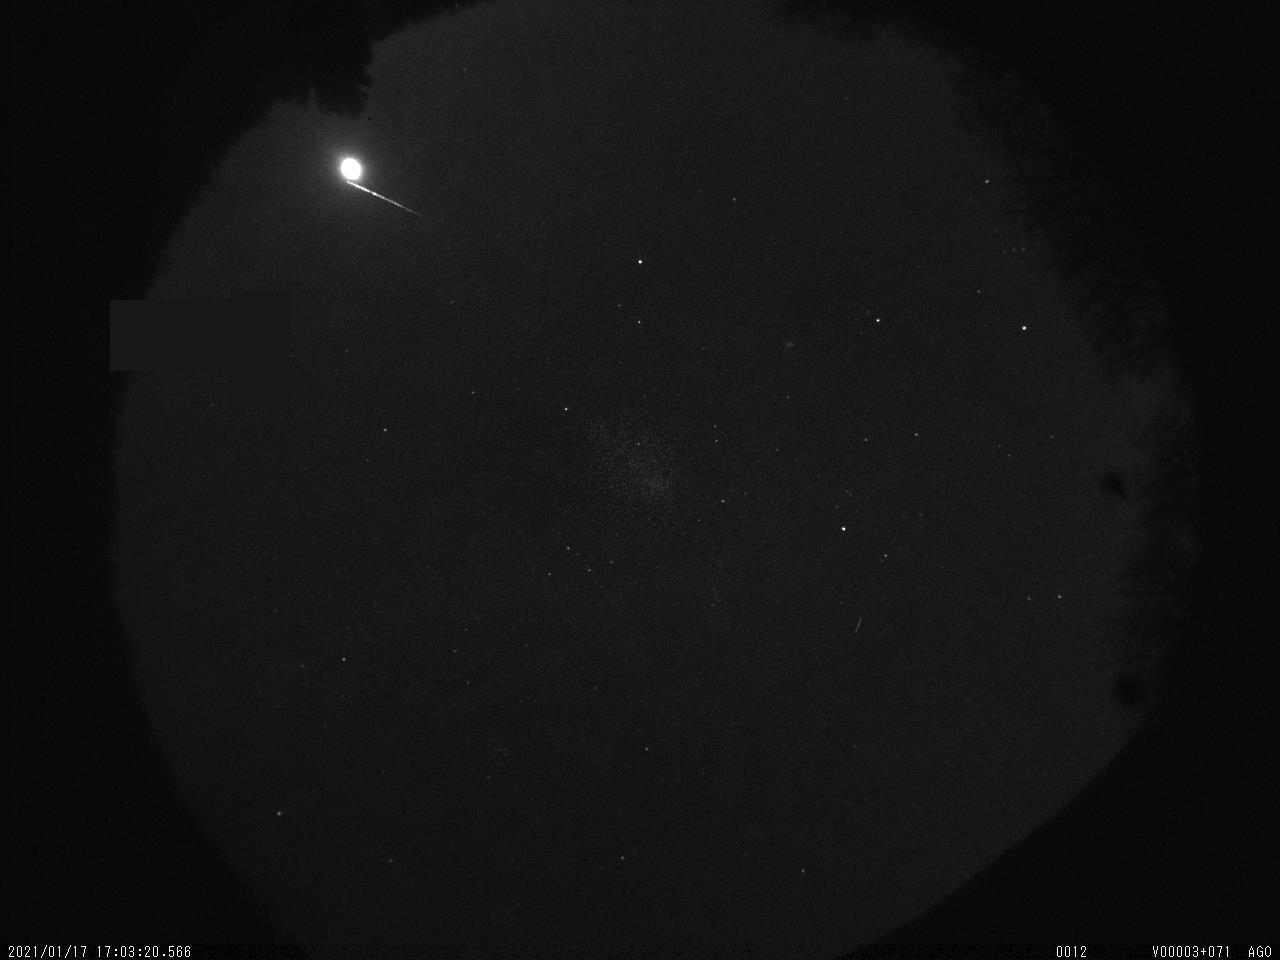meteor: (335, 172, 436, 227)
